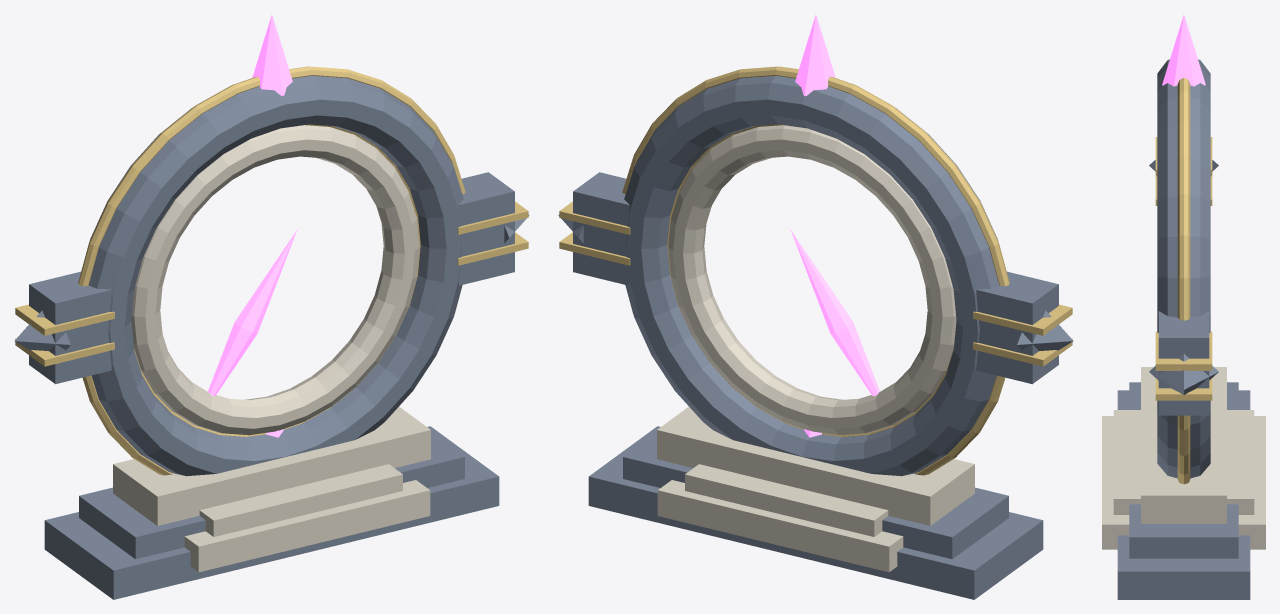
Rendered from gate-insight.glb.
The picture shows the model from 3 angles, left to right: view 1: azimuth 30°, elevation 25°; view 2: azimuth 150°, elevation 25°; view 3: azimuth 270°, elevation 25°; orthographic projection. The views are drawn at different scales.
Parts seen in each view (by area): view 1: insight_gate_slate, insight_gate_ivory, insight_gate_gold, insight_gate_crystal; view 2: insight_gate_slate, insight_gate_ivory, insight_gate_gold, insight_gate_crystal; view 3: insight_gate_slate, insight_gate_ivory, insight_gate_gold, insight_gate_crystal.
Part boxes in pixels (x1=…): insight_gate_slate: x1=14, y1=75, x2=529, y2=599; insight_gate_ivory: x1=113, y1=125, x2=430, y2=572; insight_gate_gold: x1=15, y1=66, x2=528, y2=475; insight_gate_crystal: x1=208, y1=15, x2=297, y2=437; insight_gate_slate: x1=558, y1=75, x2=1073, y2=599; insight_gate_ivory: x1=657, y1=125, x2=974, y2=572; insight_gate_gold: x1=559, y1=66, x2=1072, y2=475; insight_gate_crystal: x1=790, y1=15, x2=879, y2=437; insight_gate_slate: x1=1117, y1=59, x2=1250, y2=599; insight_gate_ivory: x1=1102, y1=367, x2=1265, y2=549; insight_gate_gold: x1=1155, y1=78, x2=1212, y2=484; insight_gate_crystal: x1=1162, y1=15, x2=1205, y2=86.
Bounding box in the file's own units: 1.47 × 1.4 × 0.42.
